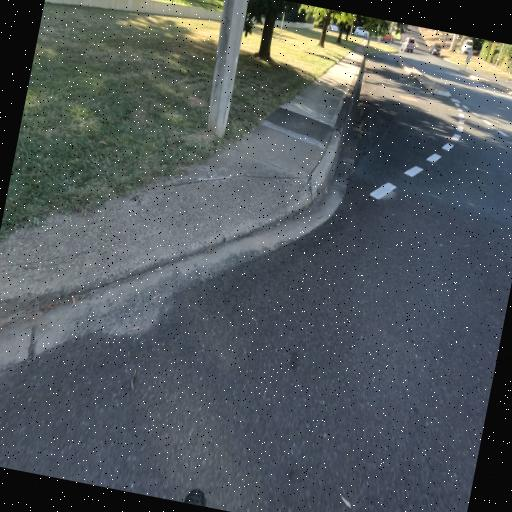kerb_cut: (90, 177, 303, 294)
